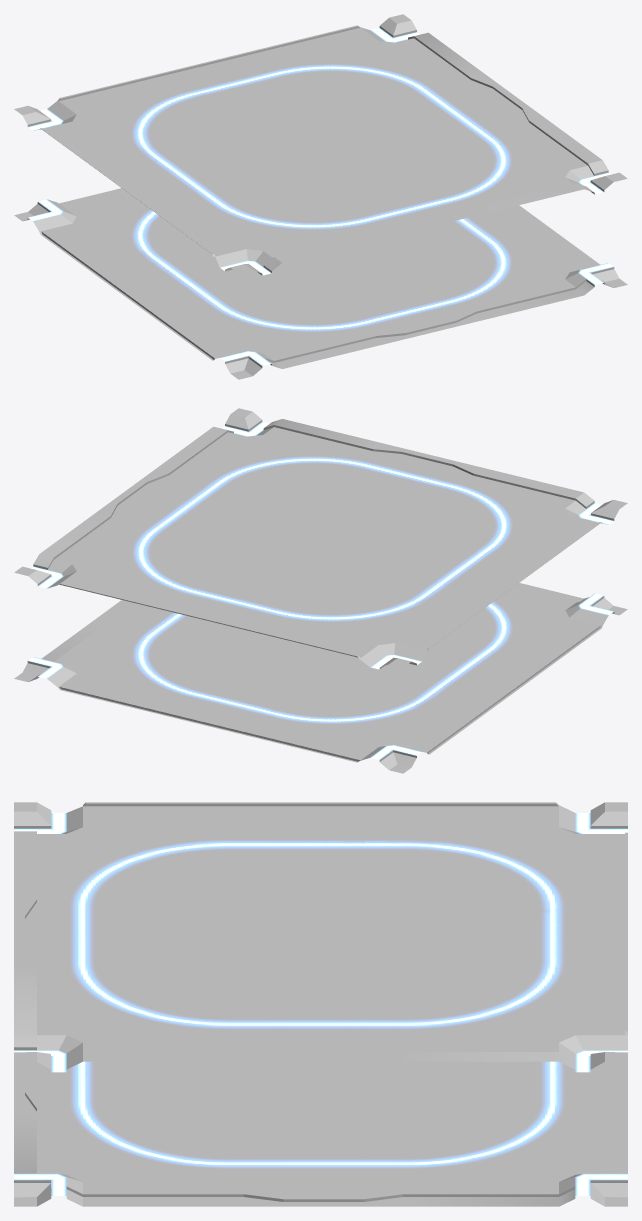
File: 4Way-2S_NoCaps.fbx
3 views of the same model, one above another, from view 1: azimuth 30°, elevation 25°; view 2: azimuth 150°, elevation 25°; view 3: azimuth 270°, elevation 25° (orthographic). The views are drawn at different scales.
Visible parts, largest first — view 1: 4Way-2S_NoCaps; view 2: 4Way-2S_NoCaps; view 3: 4Way-2S_NoCaps.
Part boxes in pixels (x1,y1,x2,y2): 4Way-2S_NoCaps: (14,14,627,379); 4Way-2S_NoCaps: (14,408,627,773); 4Way-2S_NoCaps: (14,802,627,1206).
Size of the model in its own units: 2.5 by 0.6519 by 2.5.
